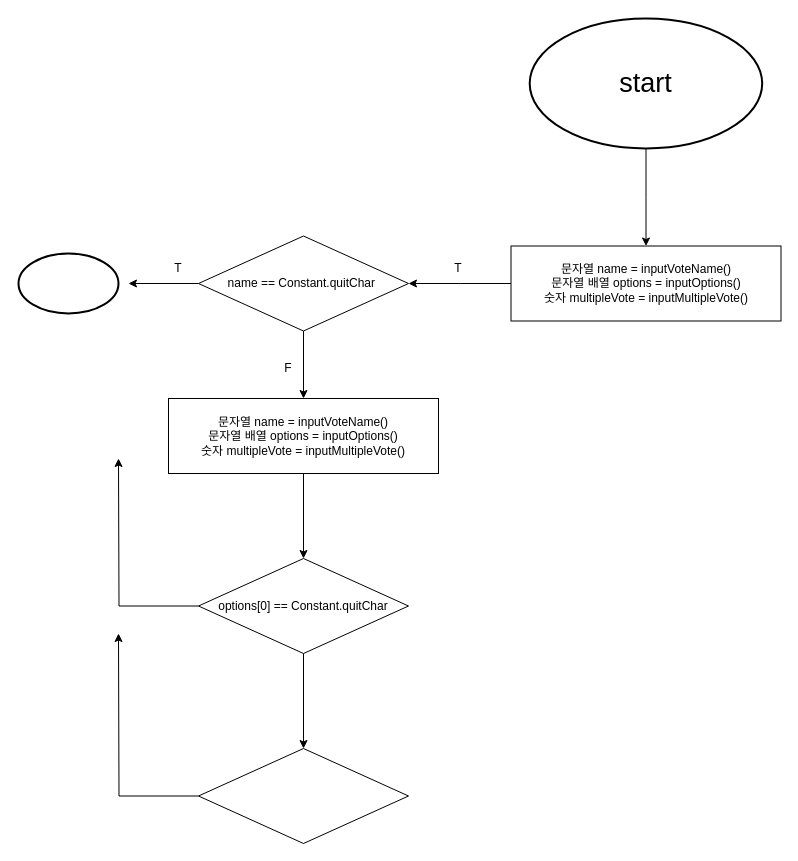
Image size: 798x861. Some labels were removed from this diagram. The shapes that lost their labels are listed below. From the top down, each one's box as (x1, y1, x2, y2) in pixels, then its label:
(17, 252, 119, 314): End
(198, 748, 408, 844): multipleVote == Constant.quitInt
